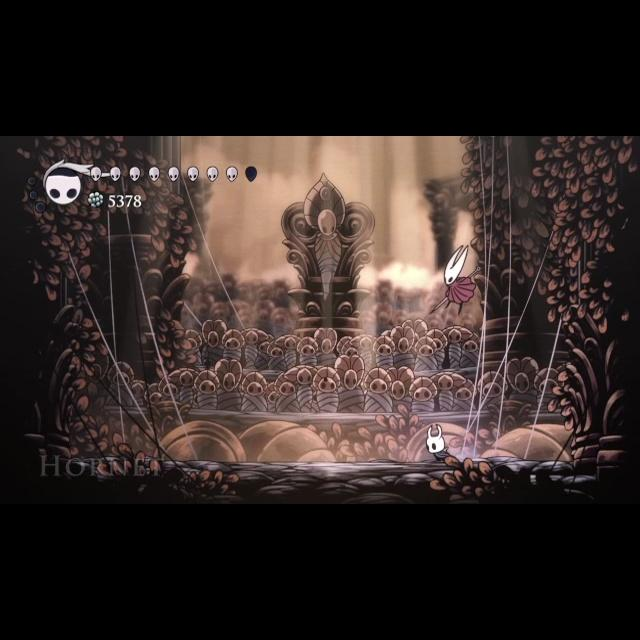Enemy: (430, 241, 488, 319)
Player: (418, 421, 456, 463)
